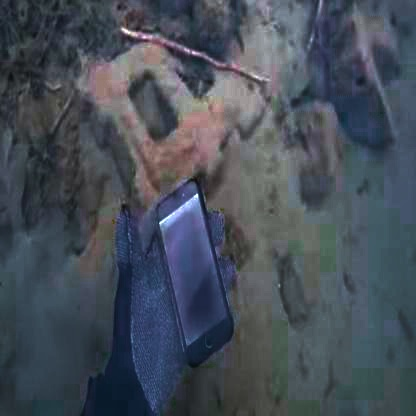cellphone: (156, 179, 234, 364)
